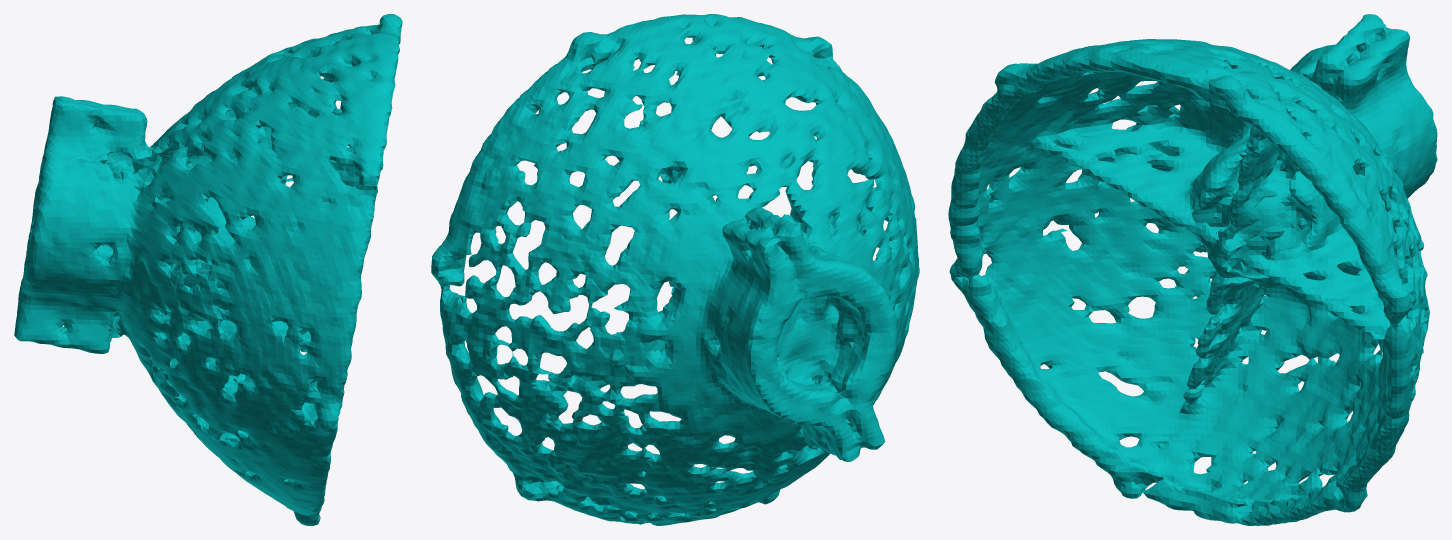
The picture shows the model from 3 angles, left to right: view 1: azimuth 30°, elevation 25°; view 2: azimuth 150°, elevation 25°; view 3: azimuth 270°, elevation 25°; orthographic projection. The views are drawn at different scales.
Bounding box in the file's own units: 0.877 × 0.944 × 0.8629.
